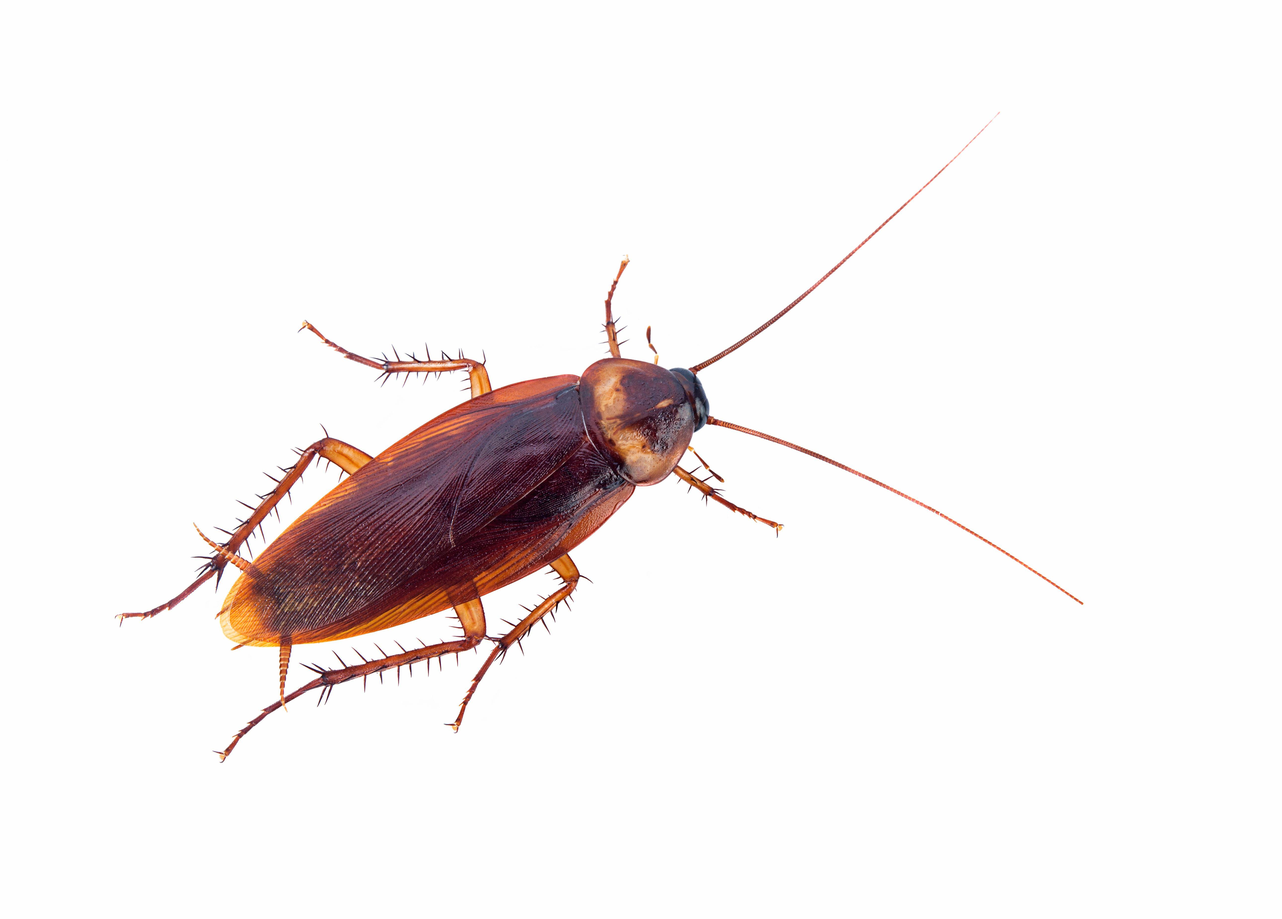cockroach: (216, 329, 722, 676)
